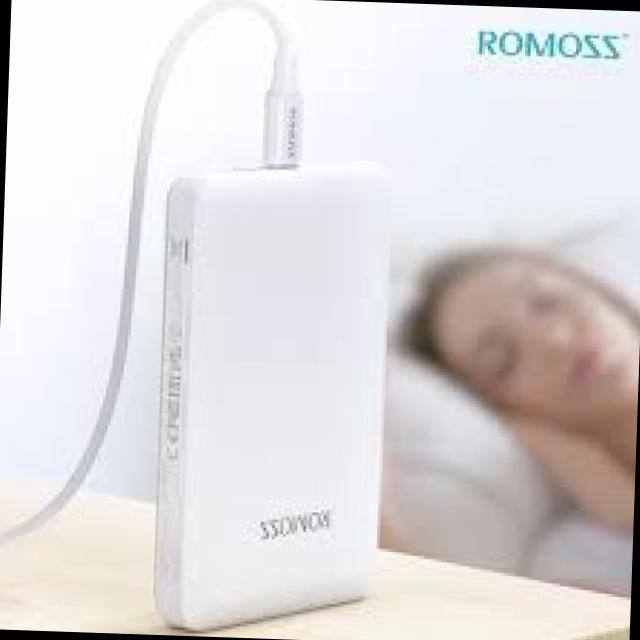power_bank: (149, 150, 388, 636)
